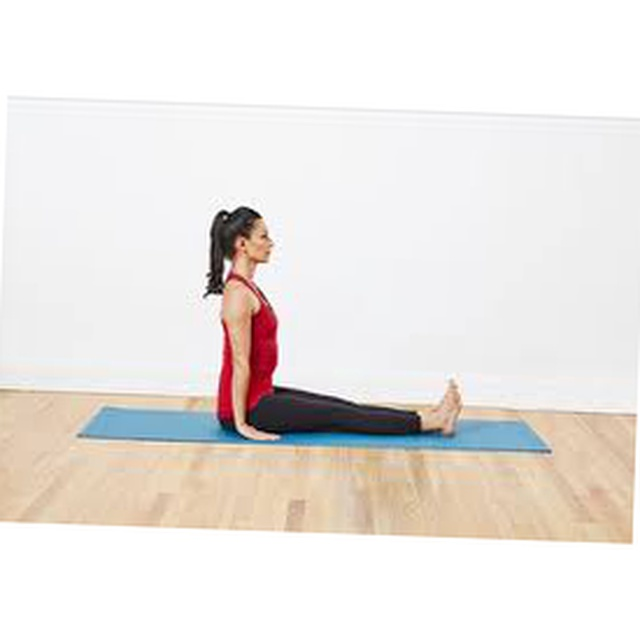Staff_Pose: (202, 205, 464, 443)
